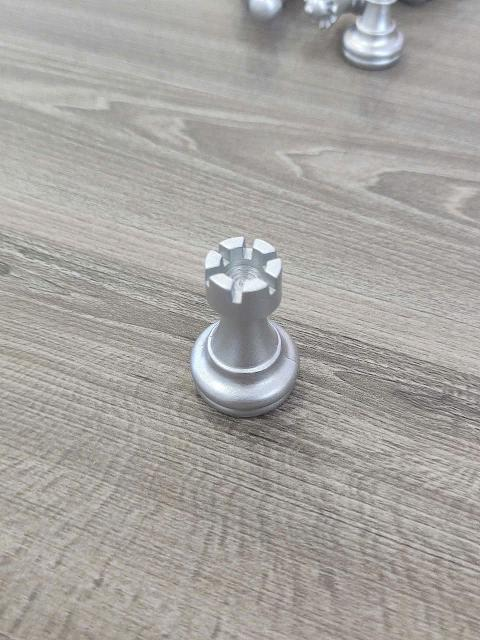white_rook: (189, 230, 299, 410)
